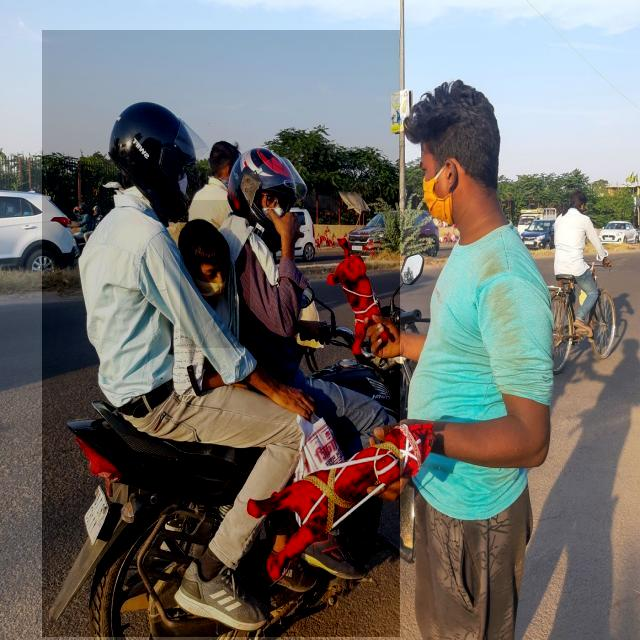No_Helmet: (180, 200, 250, 348)
Overloading: (42, 30, 400, 637)
